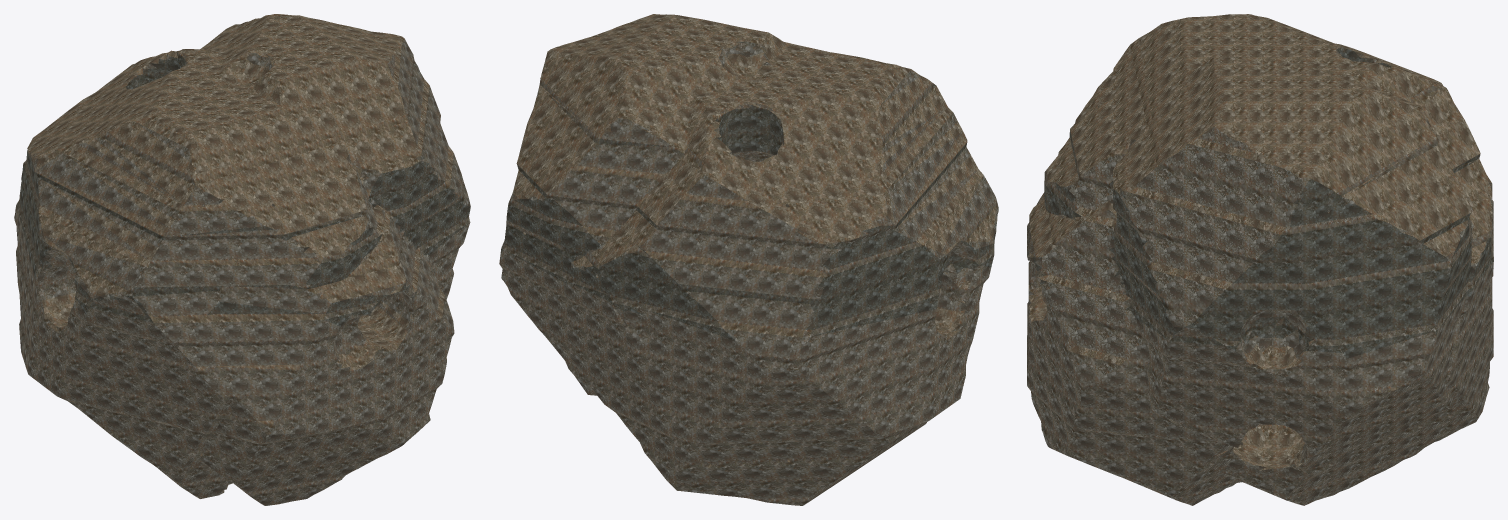
Rendered from petek.glb.
The picture shows the model from 3 angles, left to right: view 1: azimuth 30°, elevation 25°; view 2: azimuth 150°, elevation 25°; view 3: azimuth 270°, elevation 25°; orthographic projection. The views are drawn at different scales.
Parts seen in each view (by area): view 1: lod0; view 2: lod0; view 3: lod0.
Part boxes in pixels (box(x1,y1,x2,y2)): lod0: box(14, 14, 470, 505); lod0: box(499, 14, 998, 505); lod0: box(1027, 14, 1493, 505).
Size of what is drawn, in the model's own units: 534 by 506 by 502.
Materials: 1 (1 with a texture image).
